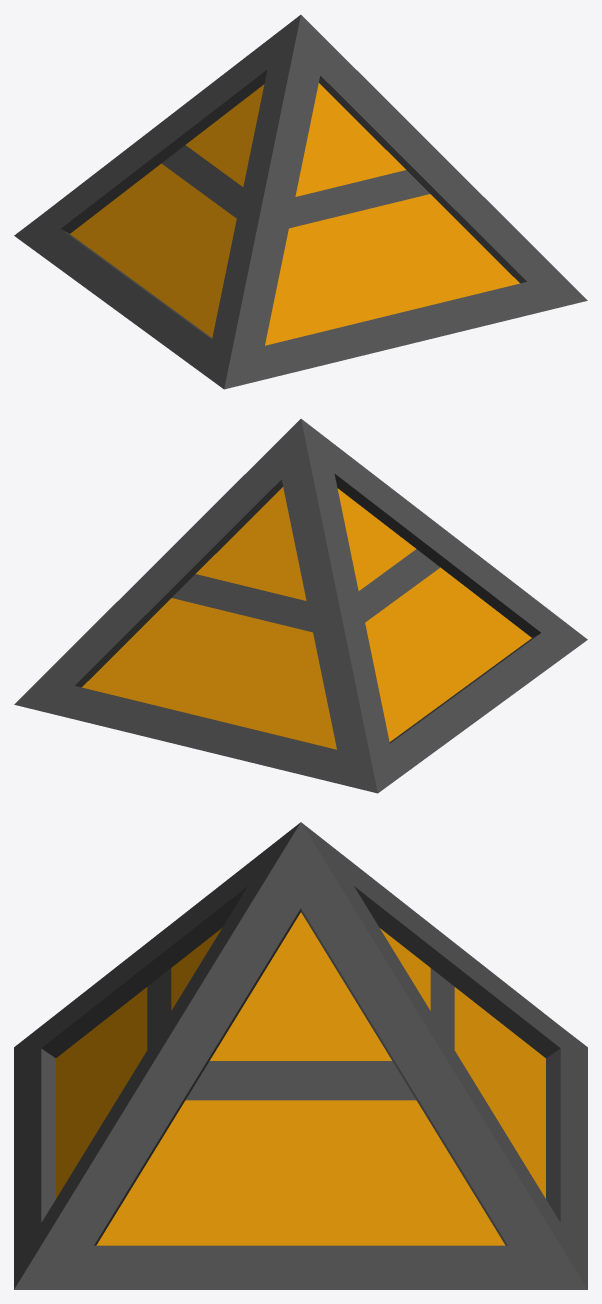
The model's file is obj_dekotora_pyramid.fbx.
3 views of the same model, one above another, from view 1: azimuth 30°, elevation 25°; view 2: azimuth 150°, elevation 25°; view 3: azimuth 270°, elevation 25° (orthographic). The views are drawn at different scales.
Visible parts, largest first — view 1: Cube.077; view 2: Cube.077; view 3: Cube.077.
Boxes of the visible parts, left/top/right/bottom form: Cube.077: left=14, top=15, right=587, bottom=389; Cube.077: left=14, top=419, right=587, bottom=793; Cube.077: left=14, top=822, right=587, bottom=1289.
Size of the model in its own units: 3 by 2 by 3.
